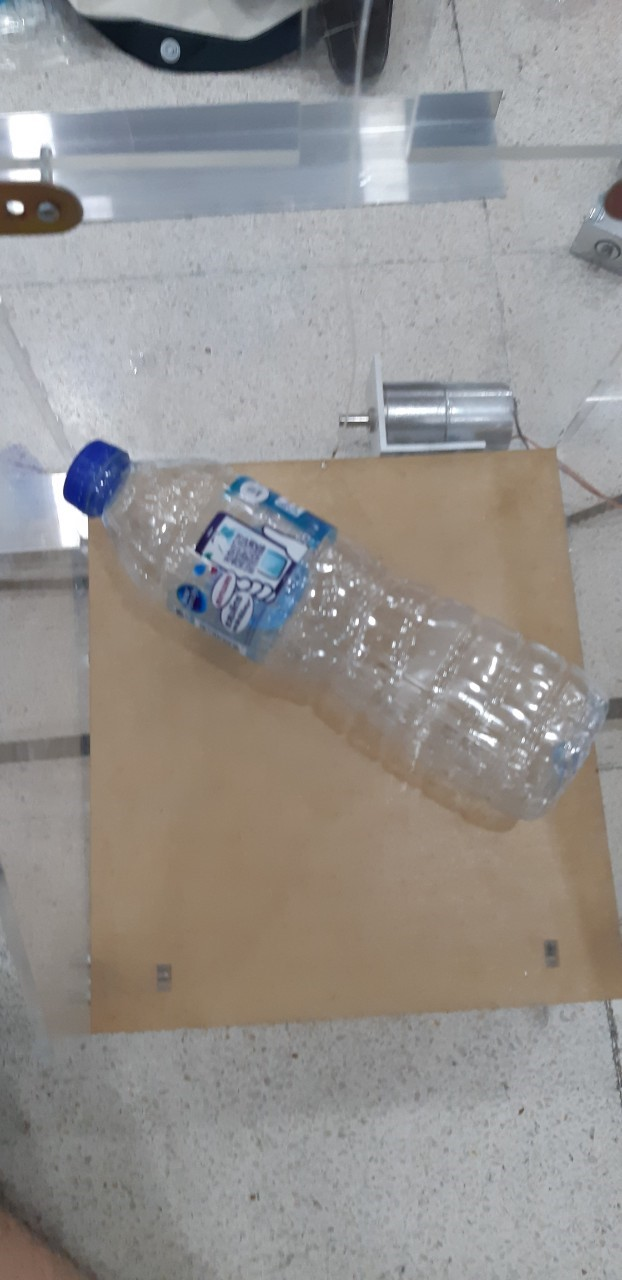PlasticBottle: (60, 441, 602, 817)
